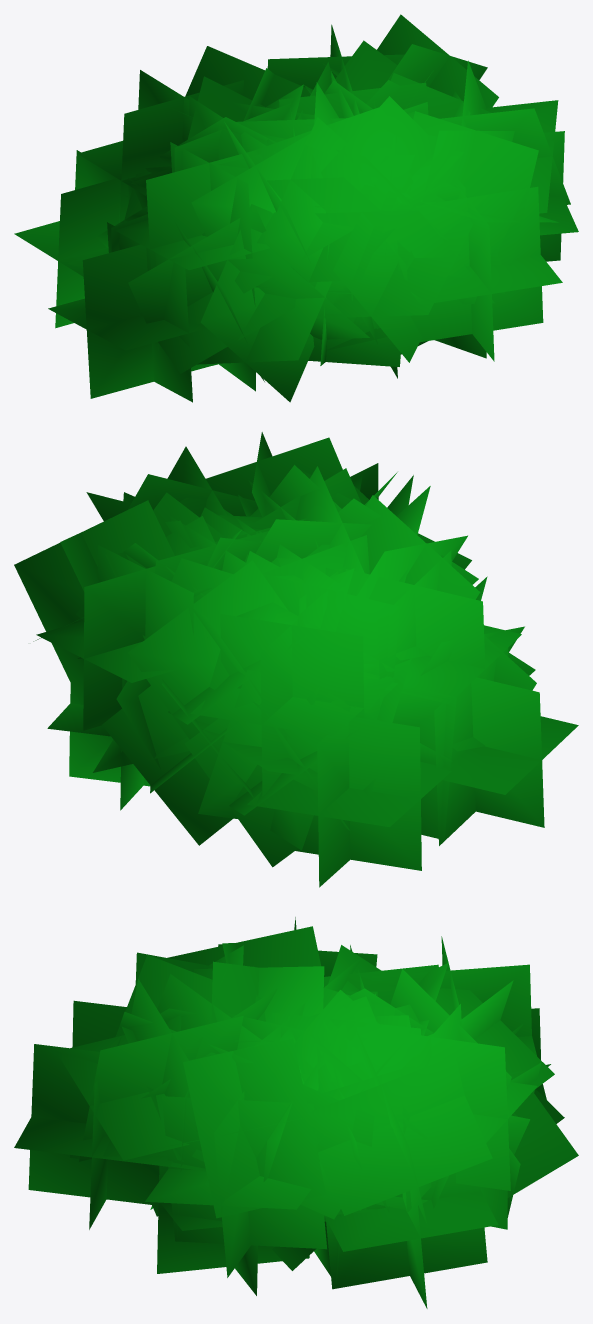
Rendered from Bush.fbx.
The picture shows the model from 3 angles, top to bottom: view 1: azimuth 30°, elevation 25°; view 2: azimuth 150°, elevation 25°; view 3: azimuth 270°, elevation 25°; orthographic projection. The views are drawn at different scales.
Visible parts, largest first — view 1: Plane.005; view 2: Plane.005; view 3: Plane.005.
Boxes of the visible parts, x1,y1,x2,y2 form: Plane.005: (14, 14, 578, 402); Plane.005: (14, 432, 578, 887); Plane.005: (14, 917, 578, 1308).
Bounding box in the file's own units: 232 × 129 × 229.
